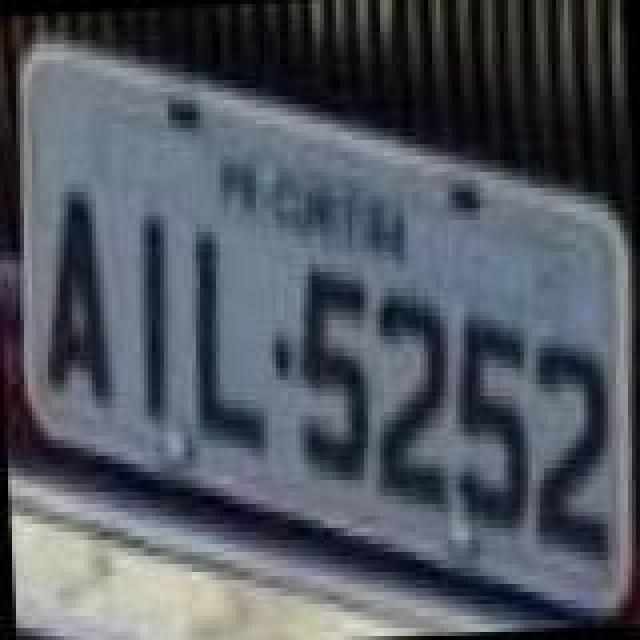1: (128, 202, 176, 422)
2: (364, 284, 460, 516), (526, 340, 618, 572)
5: (282, 256, 374, 480), (442, 312, 534, 536)
A: (30, 188, 114, 412)
L: (186, 216, 270, 456)
